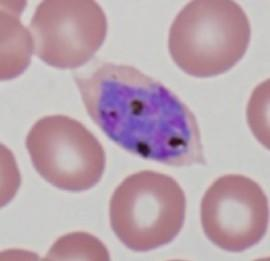Infected: (64, 92, 198, 199)
Uninfected: (20, 184, 102, 261), (165, 68, 244, 146), (85, 8, 160, 89), (163, 193, 241, 261), (2, 9, 69, 86)
